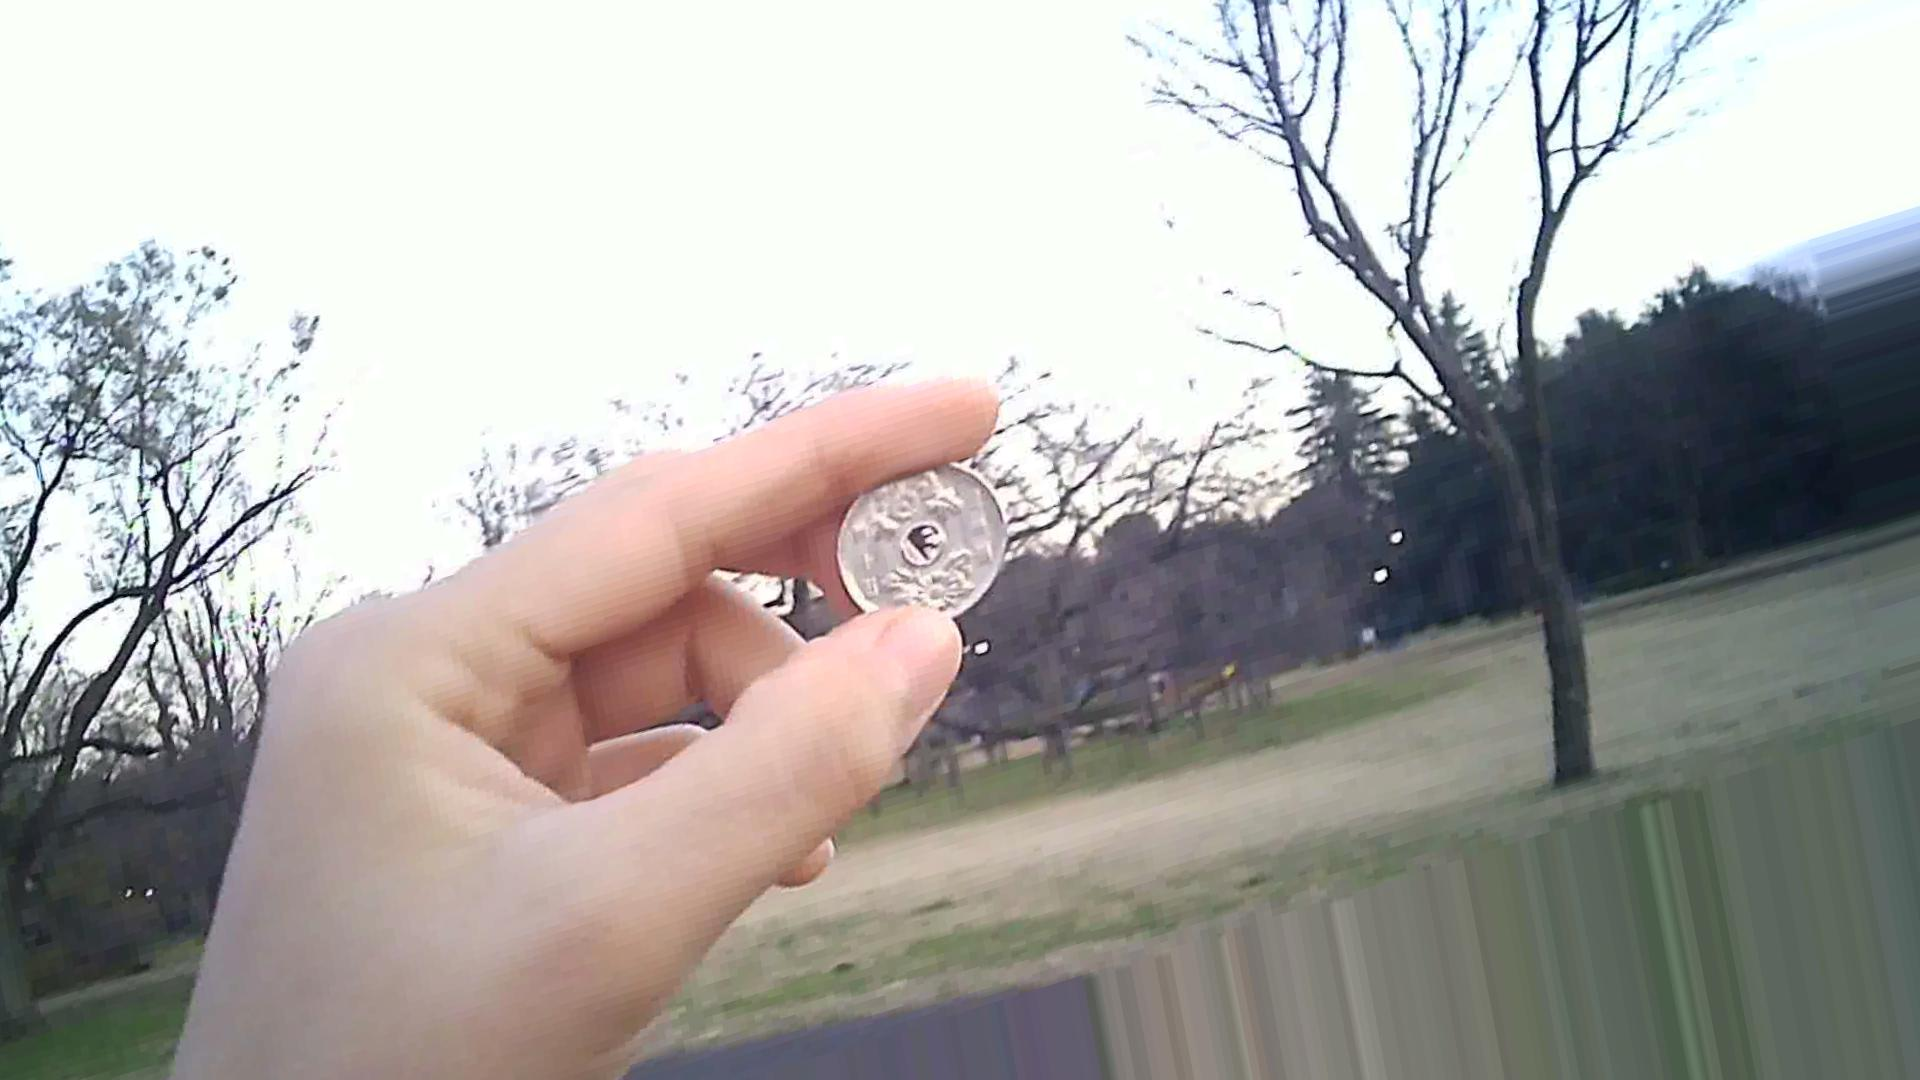50 Yen: (836, 448, 1011, 640)
